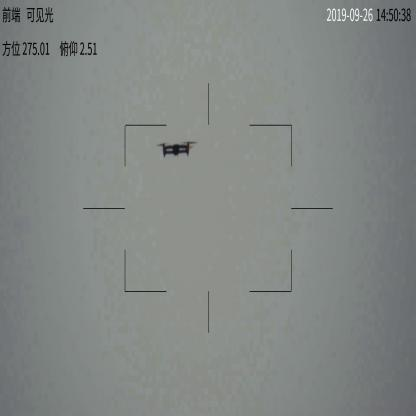uav: (152, 137, 200, 156)
